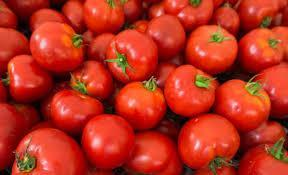healthy-tomato: (178, 114, 242, 171), (14, 128, 90, 175), (212, 80, 273, 138), (45, 88, 105, 145), (104, 30, 160, 88), (82, 115, 136, 175), (164, 66, 220, 120), (30, 22, 88, 74), (116, 76, 168, 133), (184, 25, 240, 77), (236, 27, 288, 76), (125, 132, 184, 175), (8, 55, 54, 104), (70, 62, 115, 112), (147, 15, 188, 63), (241, 145, 288, 175)
